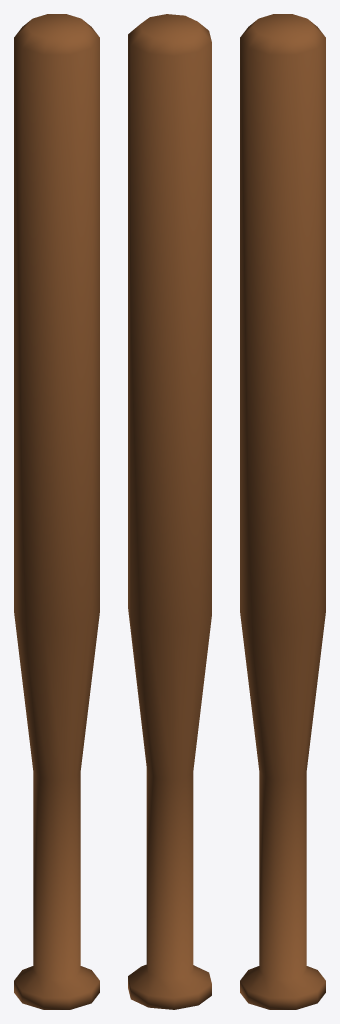
The model's file is BaseBallBat.fbx.
3 views of the same model, side by side, from view 1: azimuth 90°, elevation 25°; view 2: azimuth 150°, elevation 25°; view 3: azimuth 270°, elevation 25° (orthographic).
Parts seen in each view (by area): view 1: BaseBallBat; view 2: BaseBallBat; view 3: BaseBallBat.
Part boxes in pixels (x1=…): BaseBallBat: x1=14, y1=14, x2=99, y2=1009; BaseBallBat: x1=128, y1=14, x2=211, y2=1009; BaseBallBat: x1=240, y1=14, x2=325, y2=1009.
Bounding box in the file's own units: 7.61 × 100 × 8.
